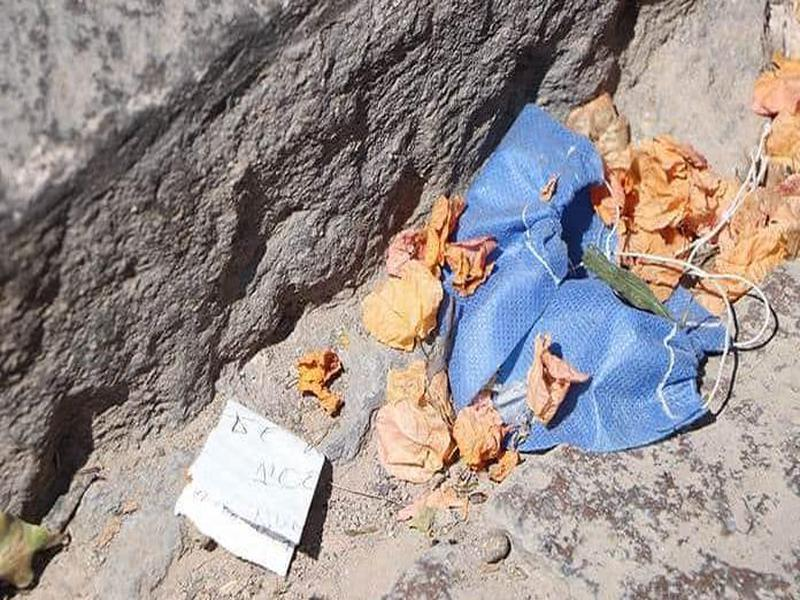leaf: (365, 362, 454, 494), (627, 129, 717, 241), (362, 264, 456, 354), (727, 173, 800, 282), (1, 503, 78, 592), (518, 336, 595, 424), (561, 81, 649, 154), (288, 347, 352, 416)
mask: (393, 100, 772, 455)
paper: (162, 378, 332, 584)
